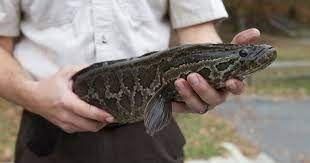Snakehead: (61, 39, 278, 139)
